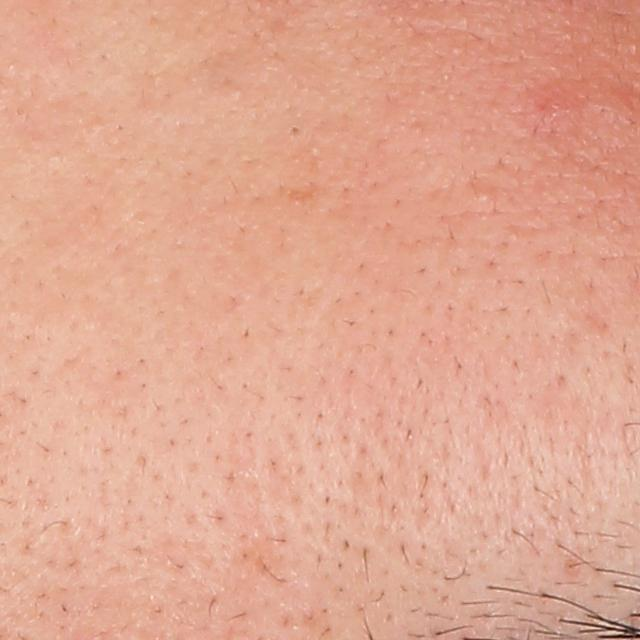comedo: (474, 184, 497, 209), (284, 122, 305, 141)
